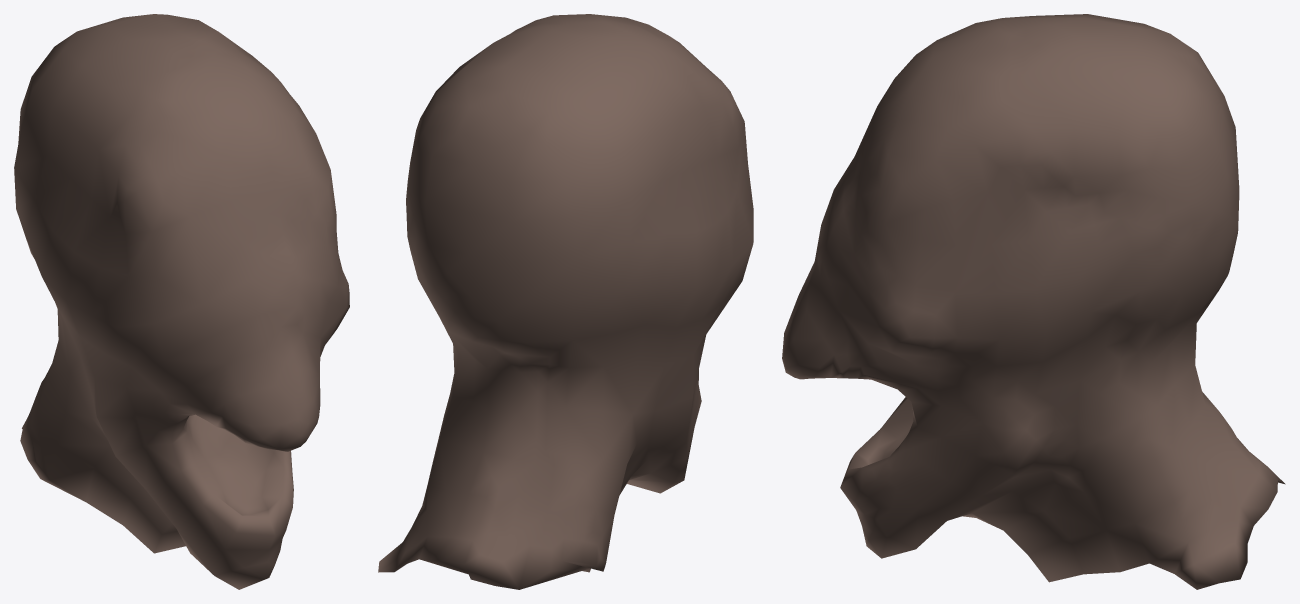
Rendered from head.fbx.
3 renders of one model, left to right at view 1: azimuth 30°, elevation 25°; view 2: azimuth 150°, elevation 25°; view 3: azimuth 270°, elevation 25°, orthographic. The views are drawn at different scales.
Parts seen in each view (by area): view 1: spider monster low rez.006; view 2: spider monster low rez.006; view 3: spider monster low rez.006.
Boxes of the visible parts, x1,y1,x2,y2 form: spider monster low rez.006: [14, 14, 349, 589]; spider monster low rez.006: [378, 14, 753, 589]; spider monster low rez.006: [782, 14, 1285, 589].
Size of the model in its own units: 1.42 by 2.8 by 2.34.
